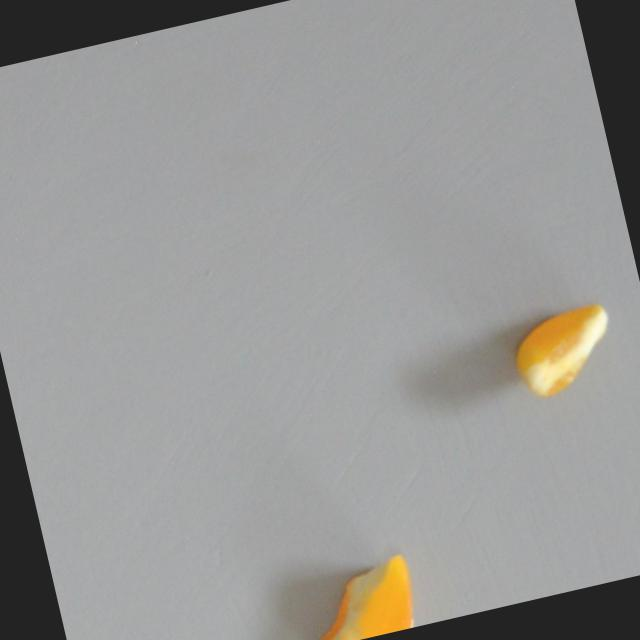dañado: (495, 288, 636, 412), (290, 534, 433, 640)
